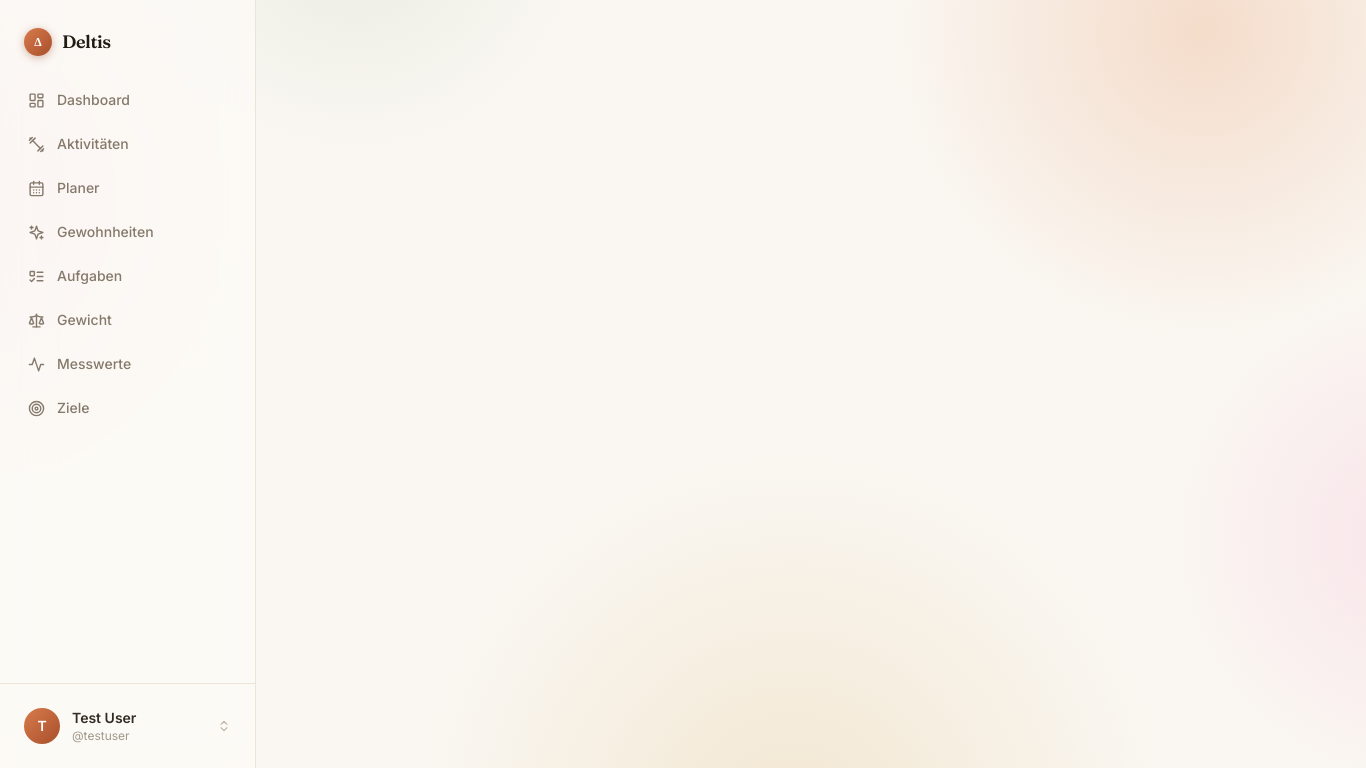
Sidebar › shows Einstellungen inside the user menu
Expected: the link "Dashboard" is shown, [28,91,130,108]
Expected: the text "Einstellungen" is not shown
Click the button with aria-label "Benutzermenü". click: (128, 726)
box: [14,700,241,752]
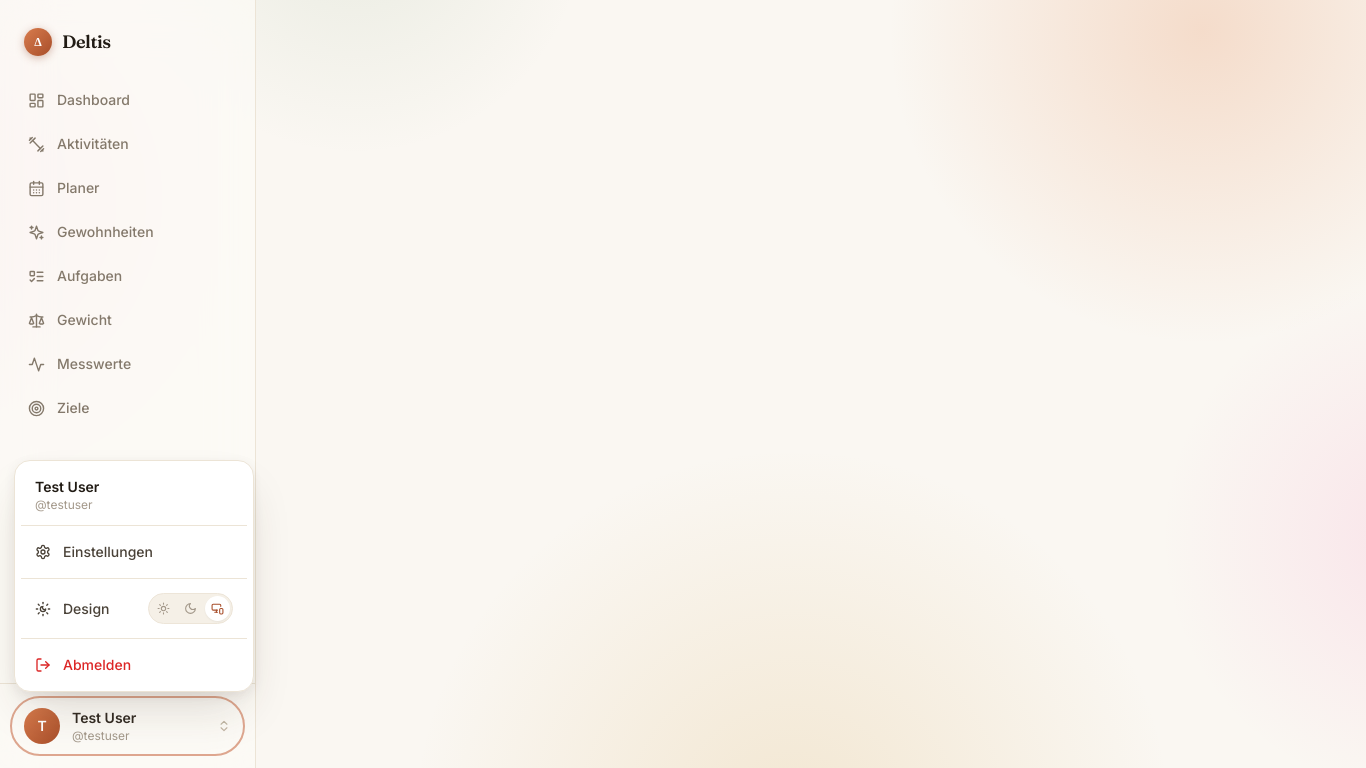
Now the text "Einstellungen" is shown, box [63,543,153,560]
